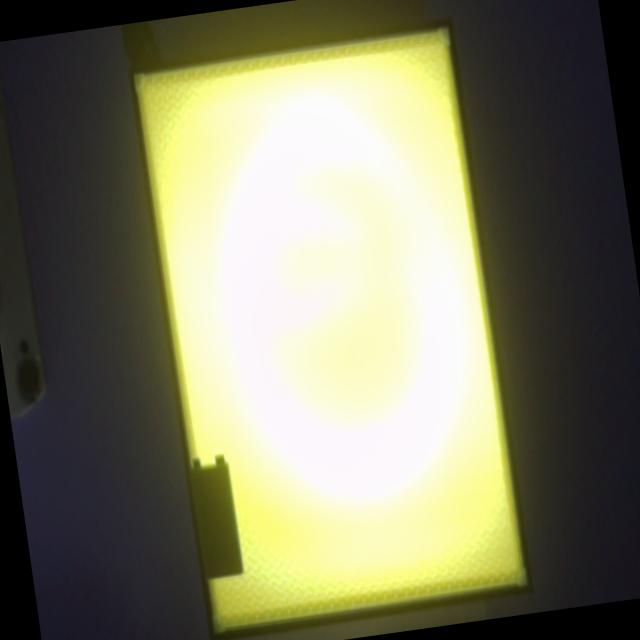bateria: (190, 456, 243, 579)
mesa: (127, 19, 534, 640)
